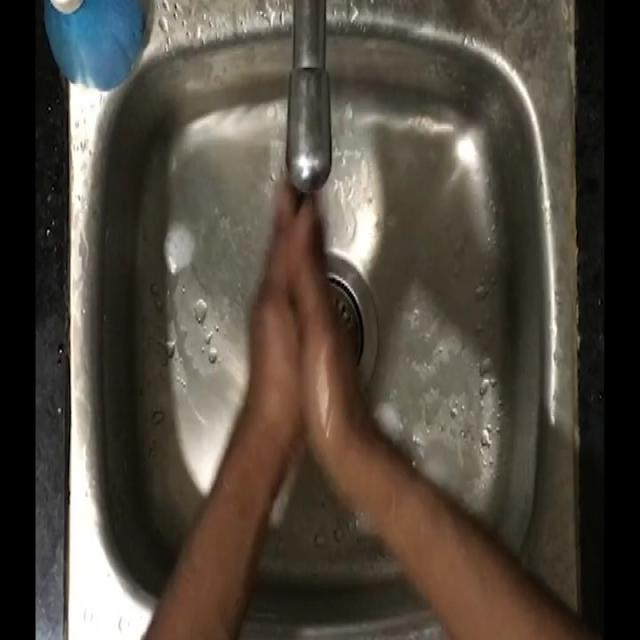step_1: (232, 121, 366, 446)
